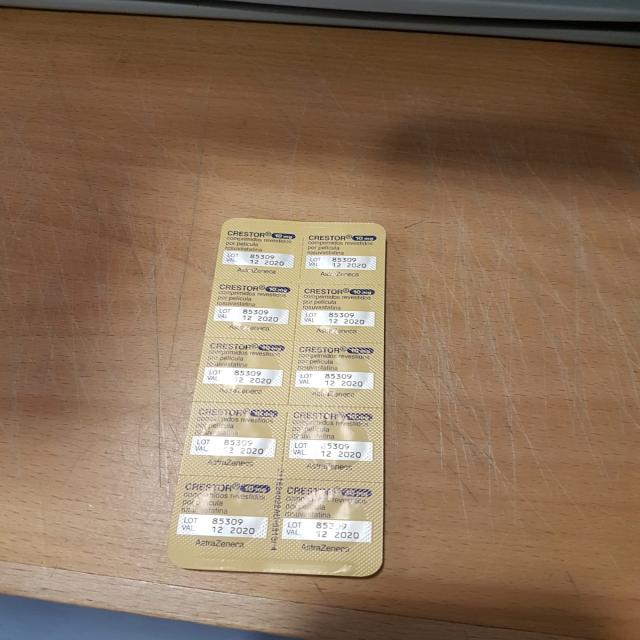Pill: (183, 482, 267, 546), (293, 287, 386, 344), (284, 414, 377, 469), (286, 490, 370, 550), (215, 286, 290, 338), (199, 415, 270, 465), (306, 233, 375, 283), (203, 360, 281, 403), (292, 360, 368, 404), (228, 227, 290, 276)
